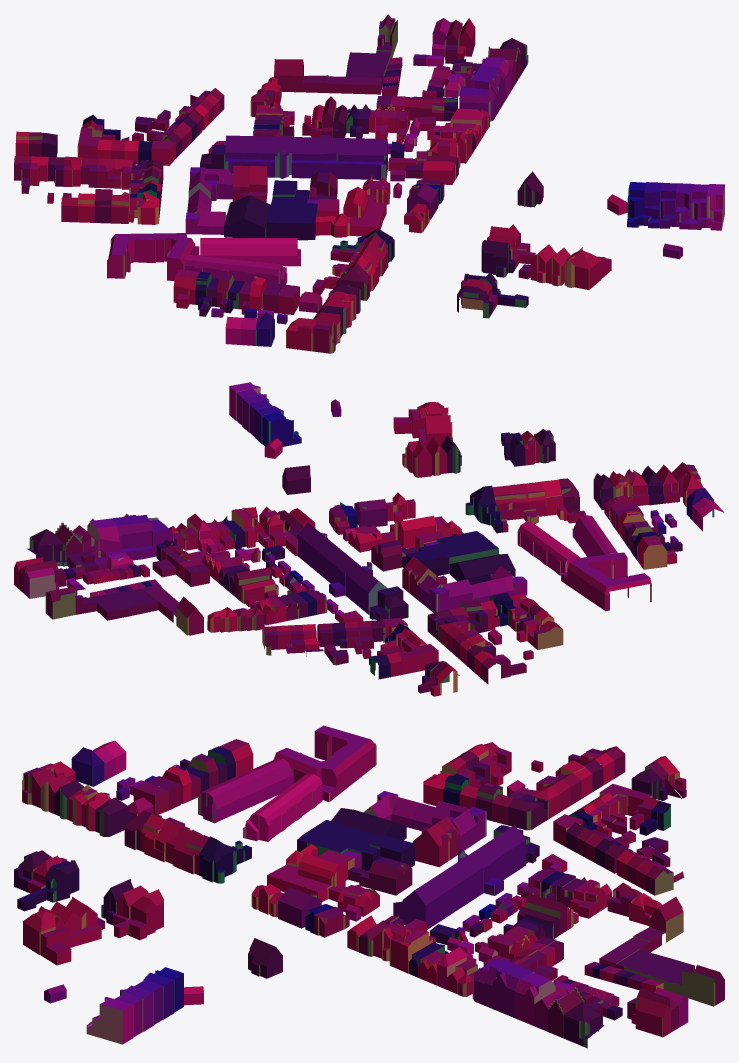
The model's file is buildings_5_8.glb.
The picture shows the model from 3 angles, top to bottom: view 1: azimuth 30°, elevation 25°; view 2: azimuth 150°, elevation 25°; view 3: azimuth 270°, elevation 25°; orthographic projection. The views are drawn at different scales.
Parts seen in each view (by area): view 1: buildings_5_8; view 2: buildings_5_8; view 3: buildings_5_8.
Boxes of the visible parts, left/top/right/bottom form: buildings_5_8: left=14, top=14, right=724, bottom=353; buildings_5_8: left=14, top=382, right=724, bottom=696; buildings_5_8: left=14, top=725, right=724, bottom=1048.
Bounding box in the file's own units: 220 × 13.02 × 222.
